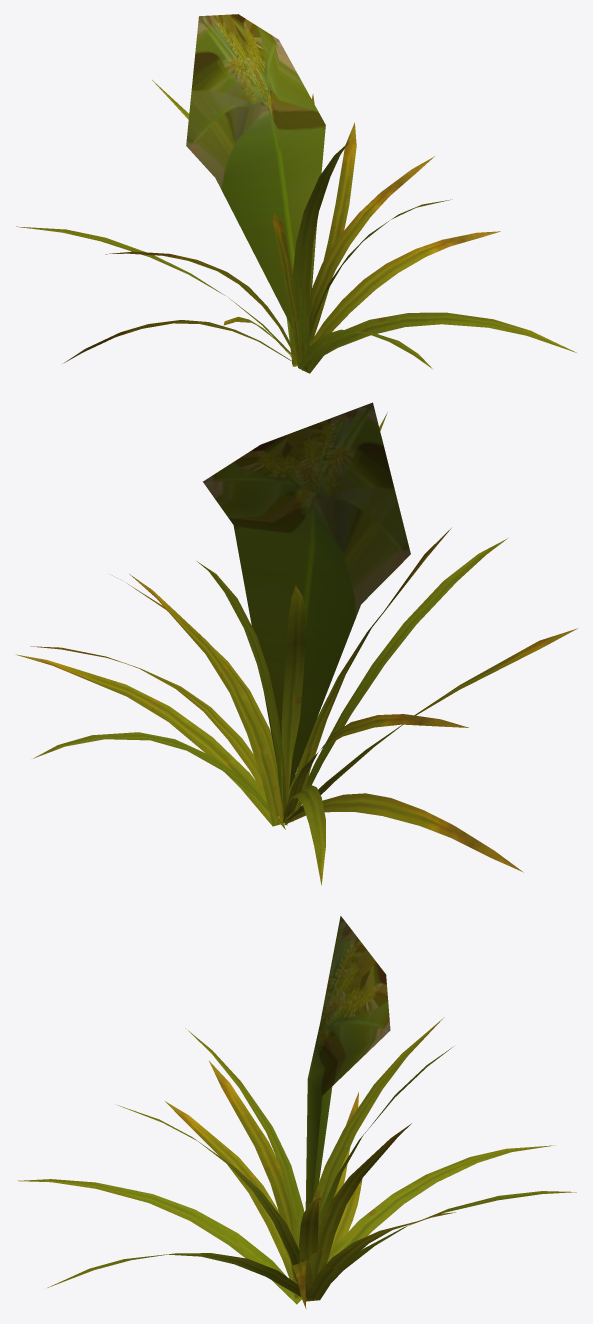
Rendered from Grass_plant_var2.fbx.
3 views of the same model, one above another, from view 1: azimuth 30°, elevation 25°; view 2: azimuth 150°, elevation 25°; view 3: azimuth 270°, elevation 25° (orthographic). The views are drawn at different scales.
Parts seen in each view (by area): view 1: Grass_plant_var2_LOD0; view 2: Grass_plant_var2_LOD0; view 3: Grass_plant_var2_LOD0.
Boxes of the visible parts, x1,y1,x2,y2 form: Grass_plant_var2_LOD0: [16, 14, 576, 373]; Grass_plant_var2_LOD0: [16, 402, 577, 885]; Grass_plant_var2_LOD0: [18, 916, 576, 1308].
Size of what is drawn, in the model's own units: 50.84 by 42.69 by 62.82.
